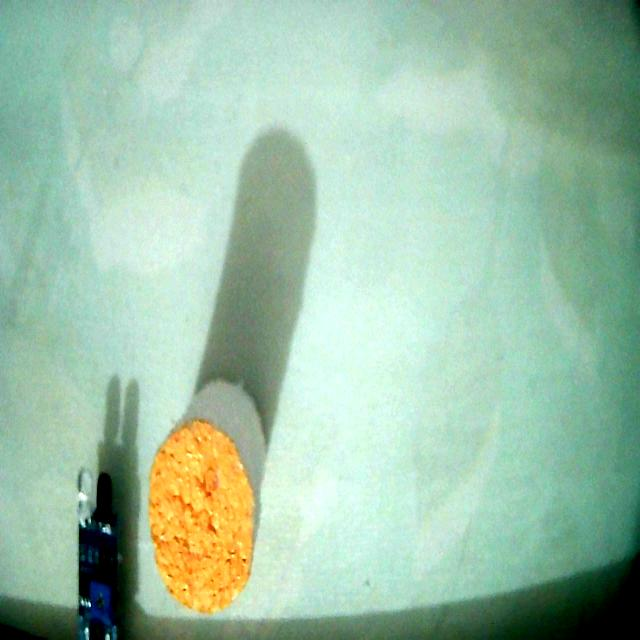yellow: (149, 423, 252, 612)
